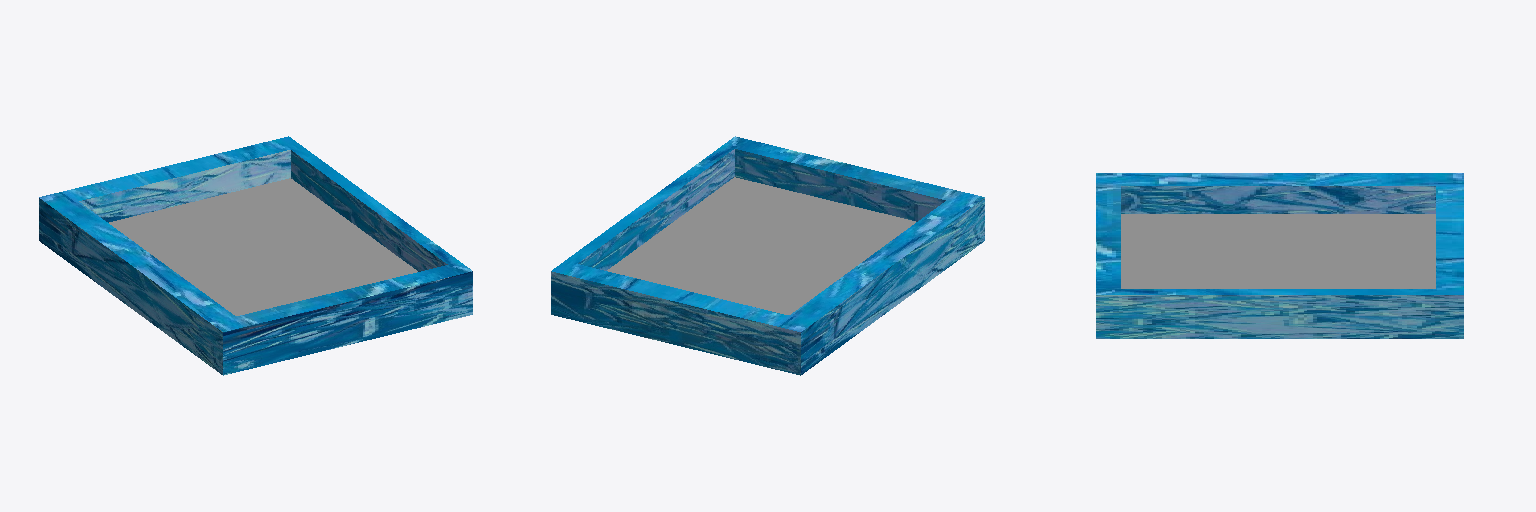
3 renders of one model, left to right at view 1: azimuth 30°, elevation 25°; view 2: azimuth 150°, elevation 25°; view 3: azimuth 270°, elevation 25°, orthographic.
Parts seen in each view (by area): view 1: Cube; view 2: Cube; view 3: Cube.
Part boxes in pixels (x1,y1,x2,y2): Cube: (39,136,472,375); Cube: (551,136,984,375); Cube: (1096,173,1463,338).
Bounding box in the file's own units: 15.53 × 2.57 × 19.82.
4 materials, 1 textured.